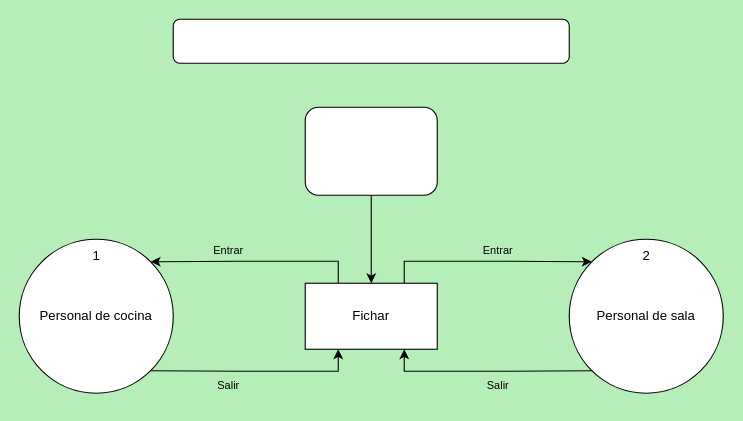
This 743x421 diagram has some shape labels left out. Each missing label, with the box of its shape:
Diagrama 0: Personal del bar: (172, 18, 569, 63)
Personal del bar: (304, 106, 437, 195)
